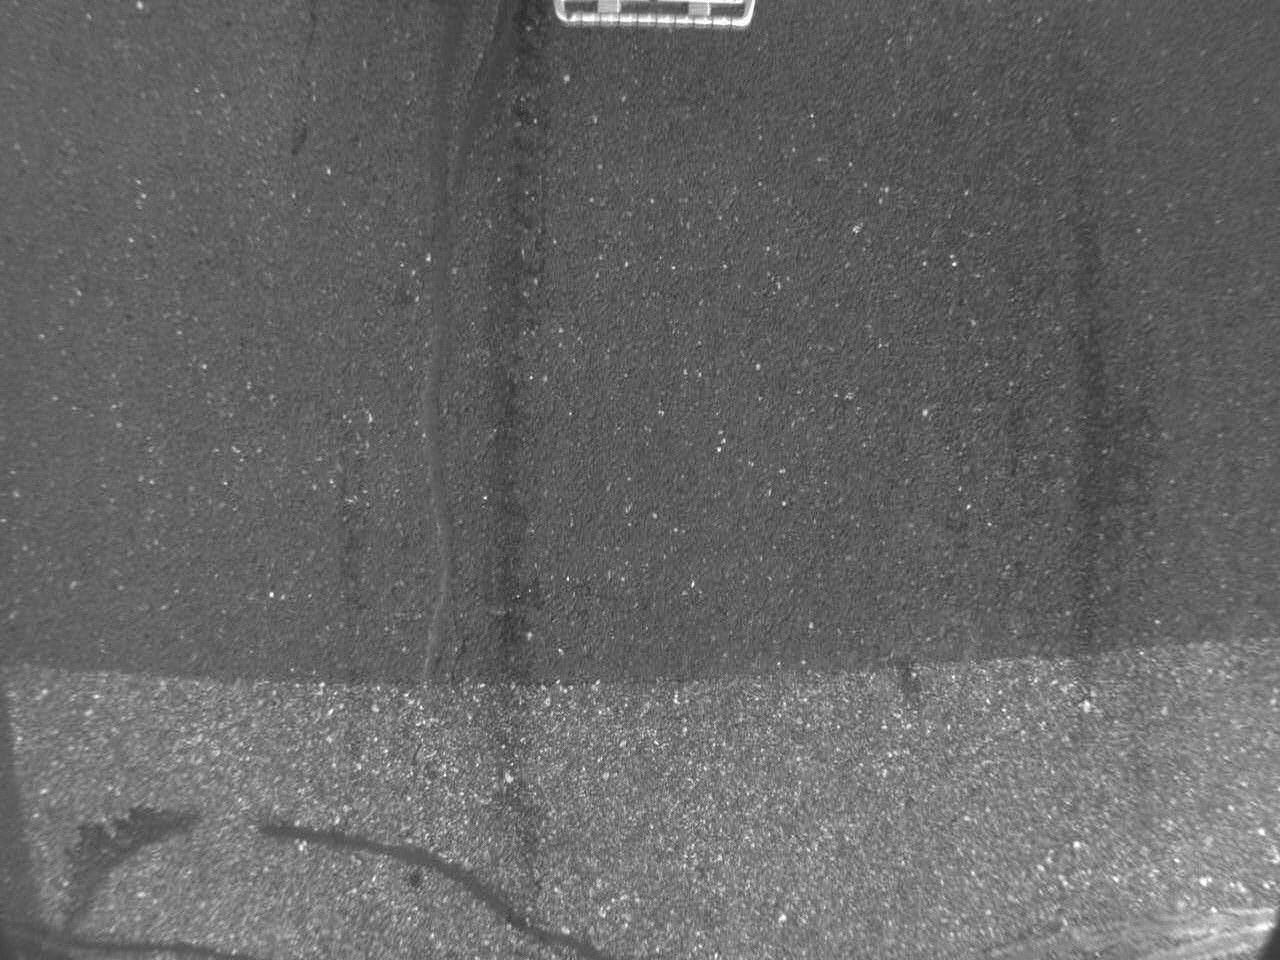sealed: (55, 800, 616, 956)
